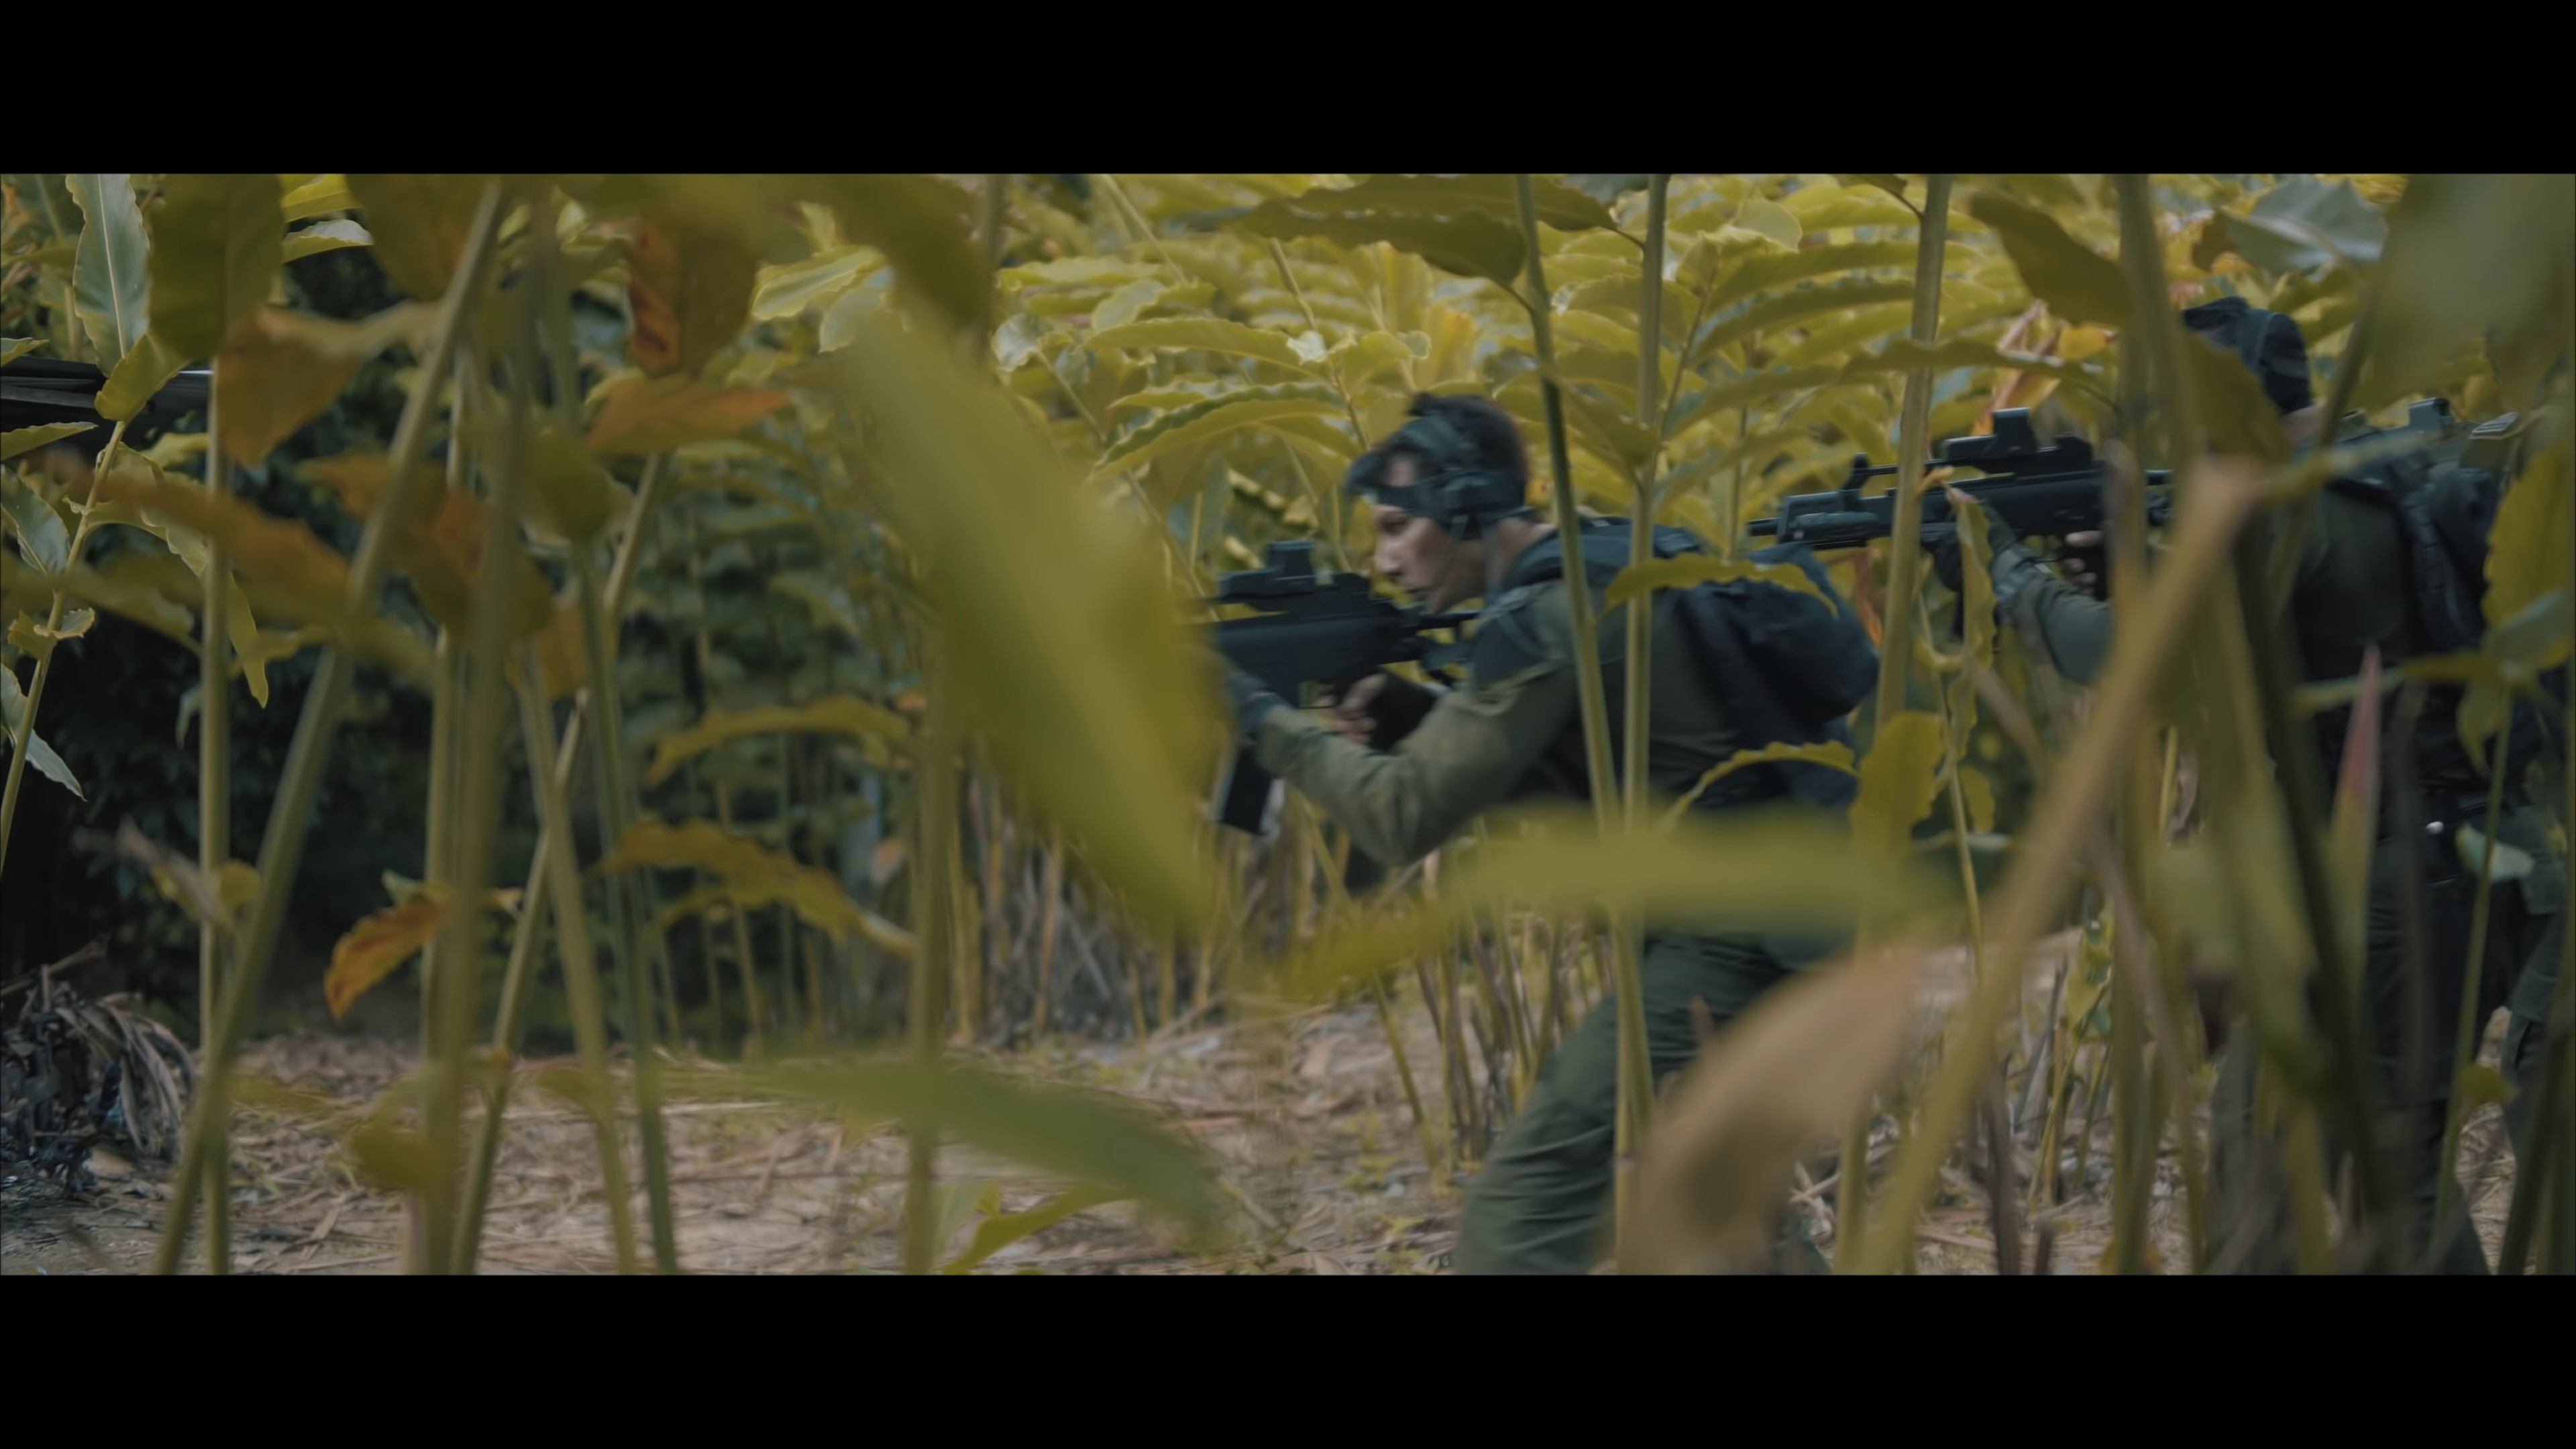gun: (1125, 504, 1490, 855), (1736, 405, 2229, 614)
p_w_gun: (1725, 292, 2511, 1276), (1106, 382, 1888, 1281)
